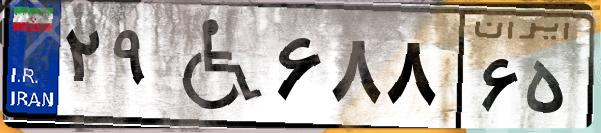2: (57, 26, 110, 100)
5: (525, 38, 570, 115)
6: (270, 28, 330, 110), (475, 38, 525, 113)
8: (385, 28, 445, 110), (330, 28, 385, 110)
9: (110, 28, 158, 98)
ژ (معلولین و جانبازان): (158, 12, 270, 120)
